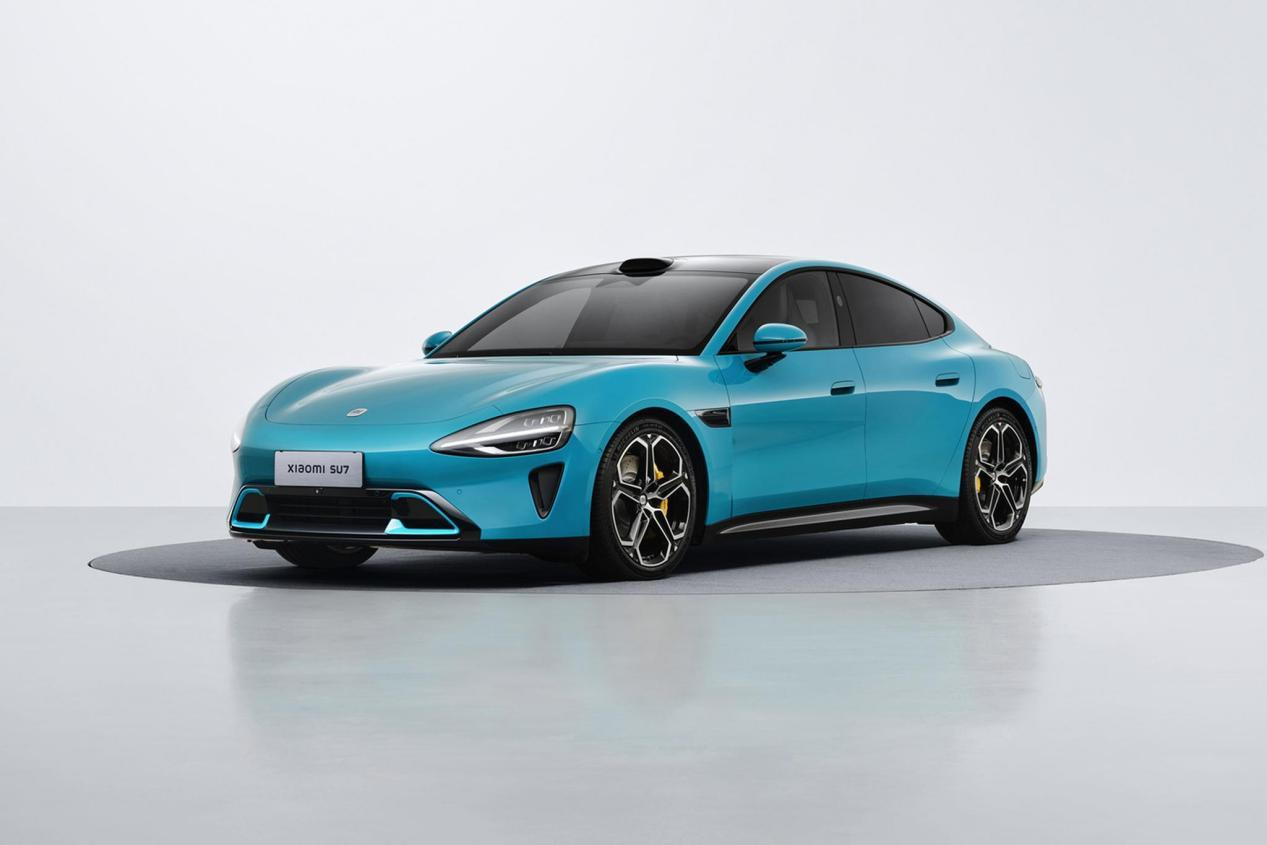su7: (206, 233, 1055, 576)
